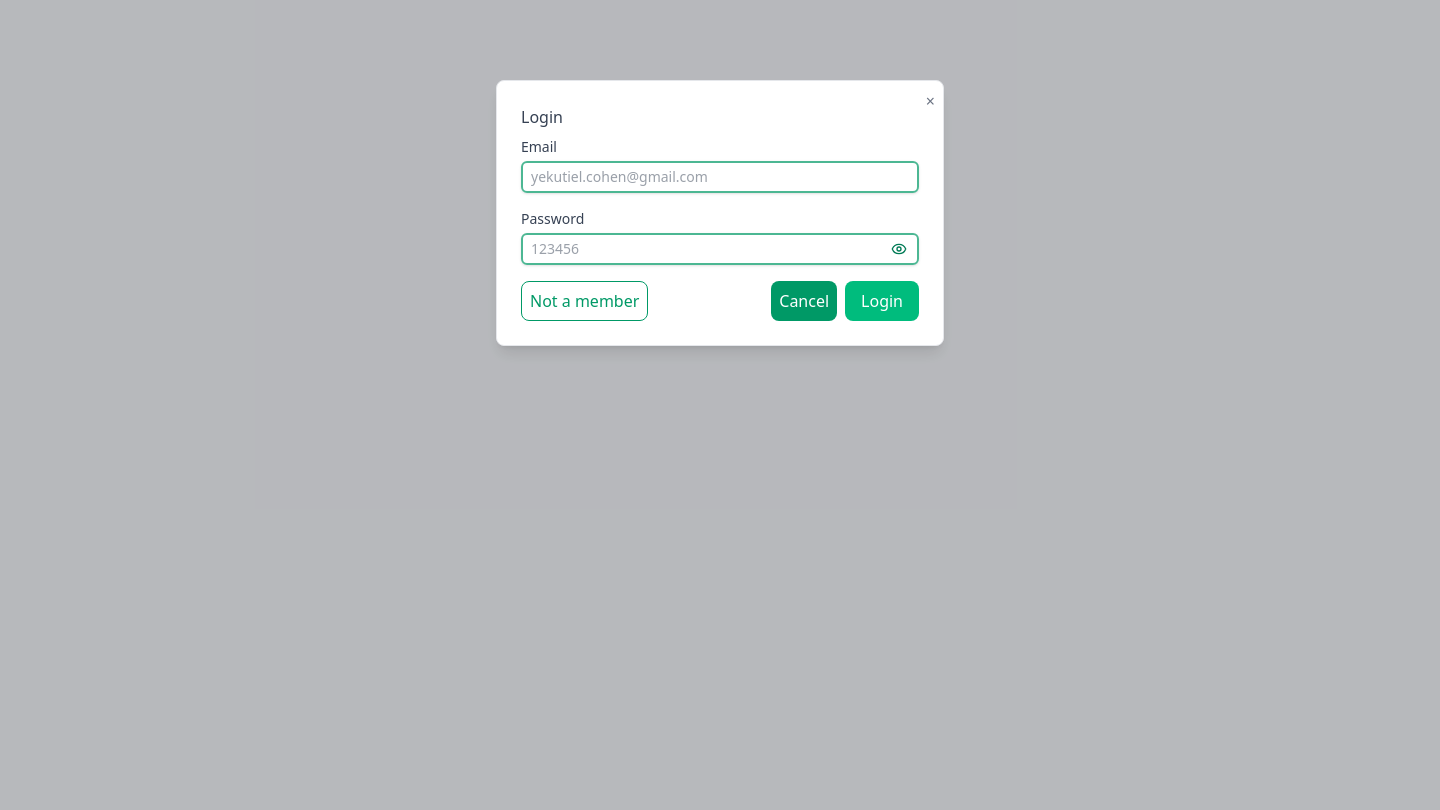
Test: LoginForm › validation › requires an email
Click the button "Login".
click(882, 301)  # box [845,281,919,321]
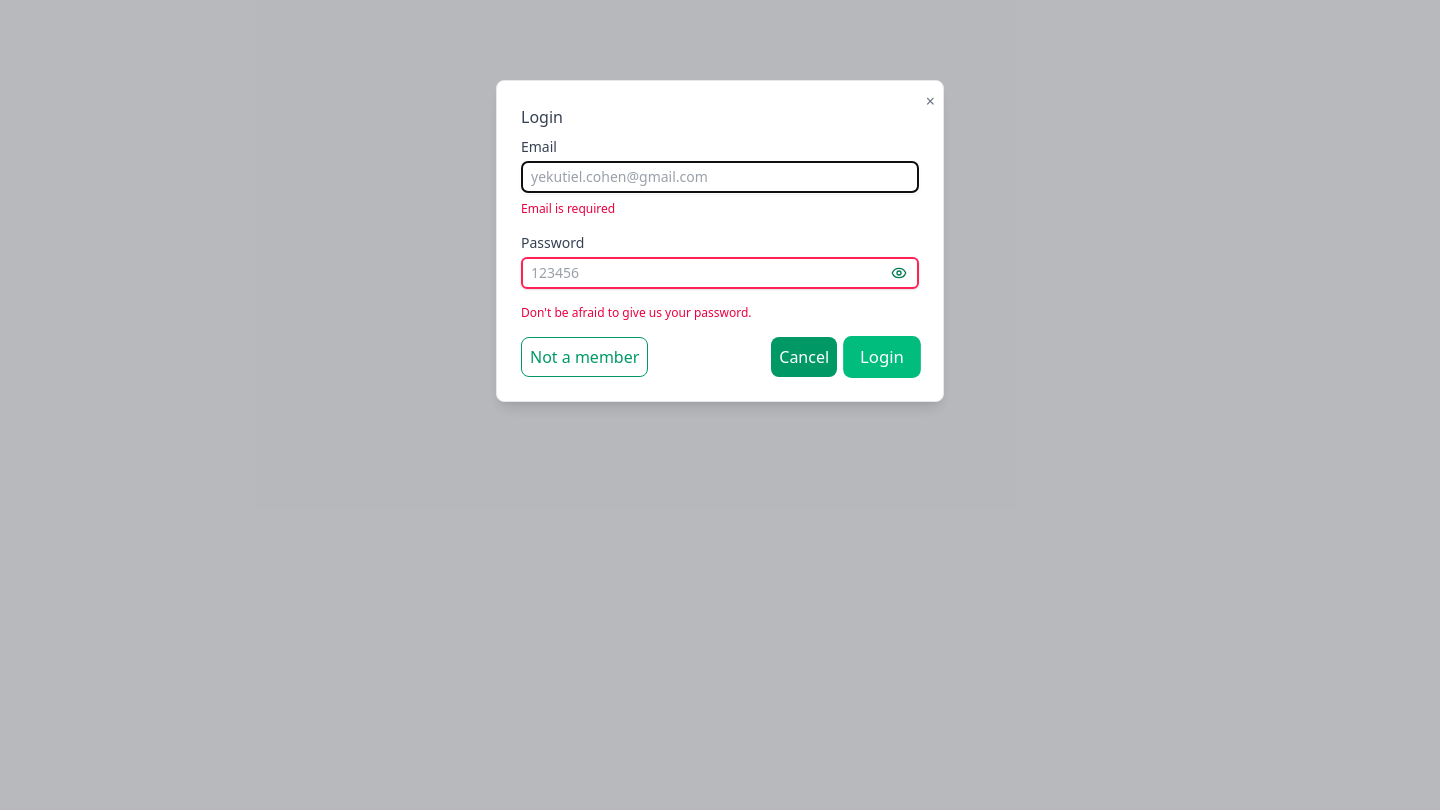
expect the text "Email is required" is shown: met, box [521,200,615,217]
